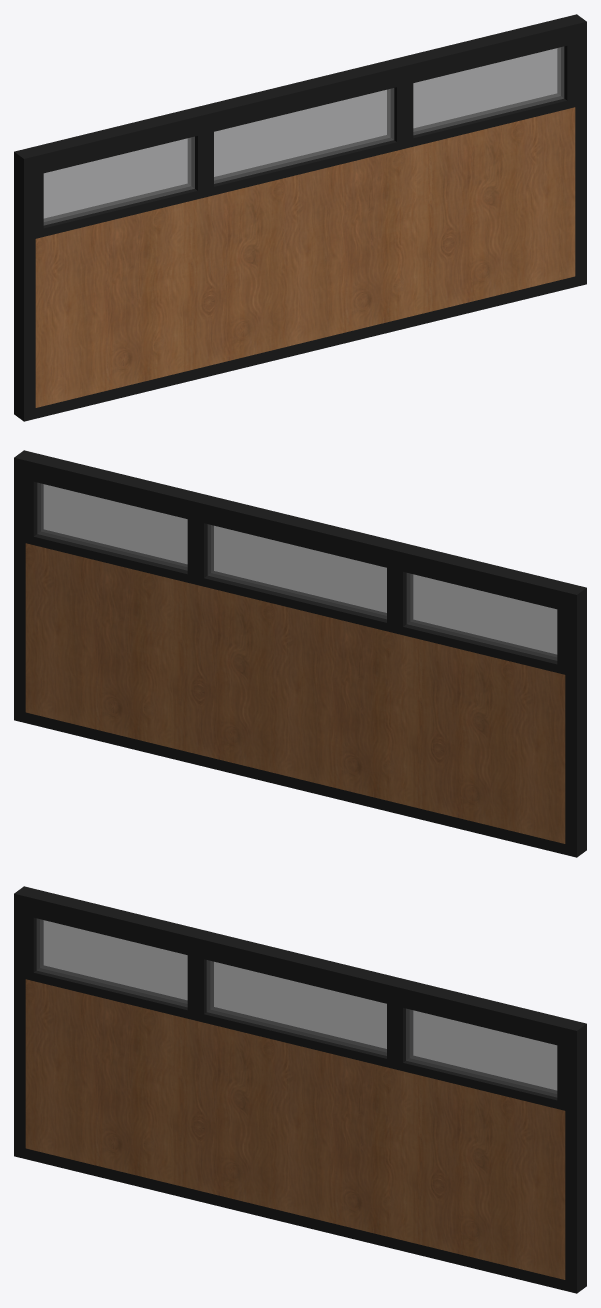
The model's file is CubicleSideL.FBX.
3 views of the same model, one above another, from view 1: azimuth 30°, elevation 25°; view 2: azimuth 150°, elevation 25°; view 3: azimuth 330°, elevation 25° (orthographic).
Parts seen in each view (by area): view 1: CubicleSideL, CubicleSide1Glass006; view 2: CubicleSideL, CubicleSide1Glass006; view 3: CubicleSideL, CubicleSide1Glass006.
Boxes of the visible parts, x1,y1,x2,y2 form: CubicleSideL: (14,14,586,421); CubicleSide1Glass006: (43,46,564,225); CubicleSideL: (14,450,586,857); CubicleSide1Glass006: (37,483,557,660); CubicleSideL: (14,886,586,1293); CubicleSide1Glass006: (36,918,557,1097).
Bounding box in the file's own units: 298 × 133 × 9.25.
